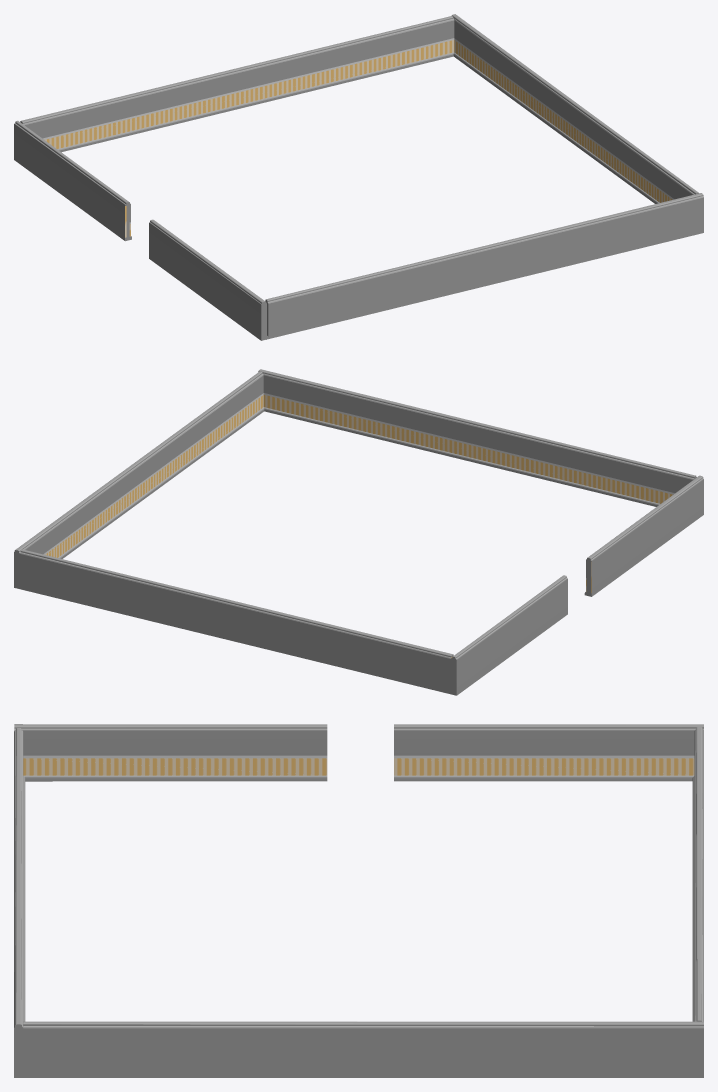
The model's file is duvar-news.fbx.
3 views of the same model, one above another, from view 1: azimuth 30°, elevation 25°; view 2: azimuth 150°, elevation 25°; view 3: azimuth 270°, elevation 25° (orthographic). The views are drawn at different scales.
Parts seen in each view (by area): view 1: pCube4, pCube1, pCube3, pCube2; view 2: pCube1, pCube4, pCube2, pCube3; view 3: pCube2, pCube3, pCube4, pCube1.
Part boxes in pixels (x1,y1,x2,y2): pCube4: (265, 193, 703, 338); pCube1: (20, 16, 454, 152); pCube3: (14, 120, 268, 340); pCube2: (451, 14, 698, 203); pCube1: (20, 549, 453, 694); pCube4: (258, 369, 696, 506); pCube2: (14, 371, 264, 589); pCube3: (451, 475, 703, 695); pCube2: (23, 1021, 703, 1077); pCube3: (14, 724, 703, 781); pCube4: (14, 728, 25, 1077); pCube1: (692, 727, 703, 1021).
Size of the model in its own units: 32040 by 2704 by 31002.
6 materials, 1 textured.
